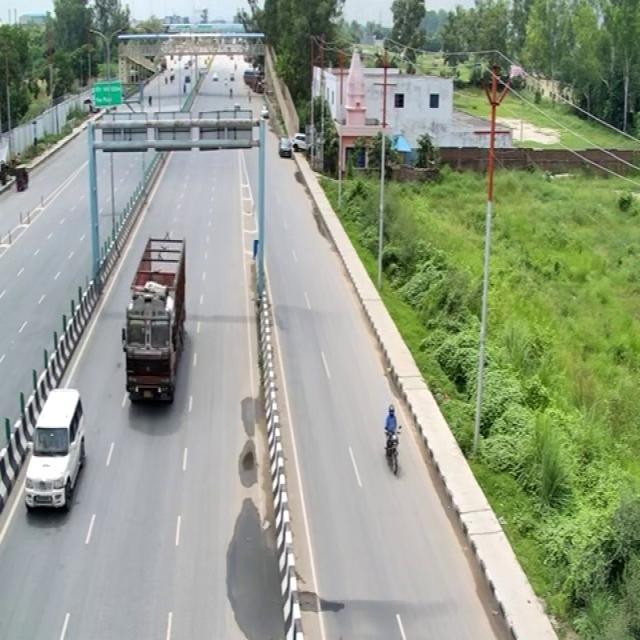car: (18, 380, 89, 515)
